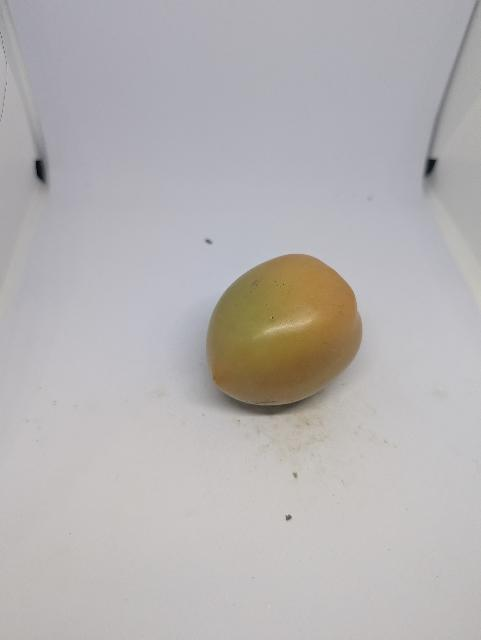breaker: (207, 254, 363, 405)
